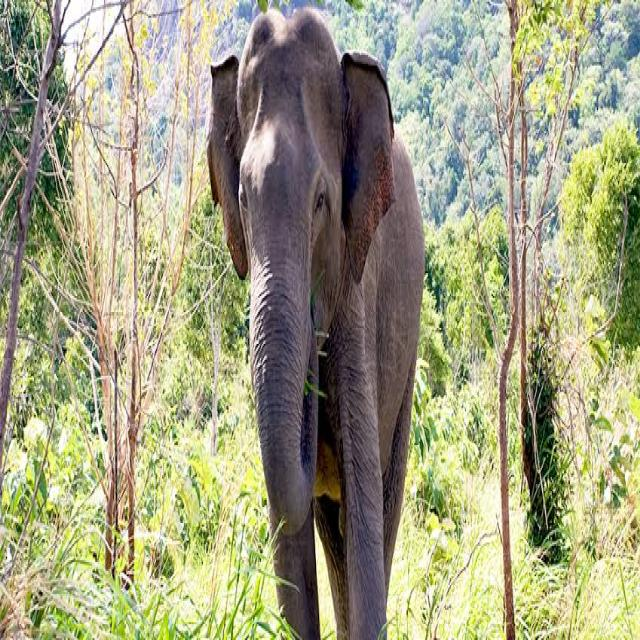Elephant: (205, 6, 425, 638)
